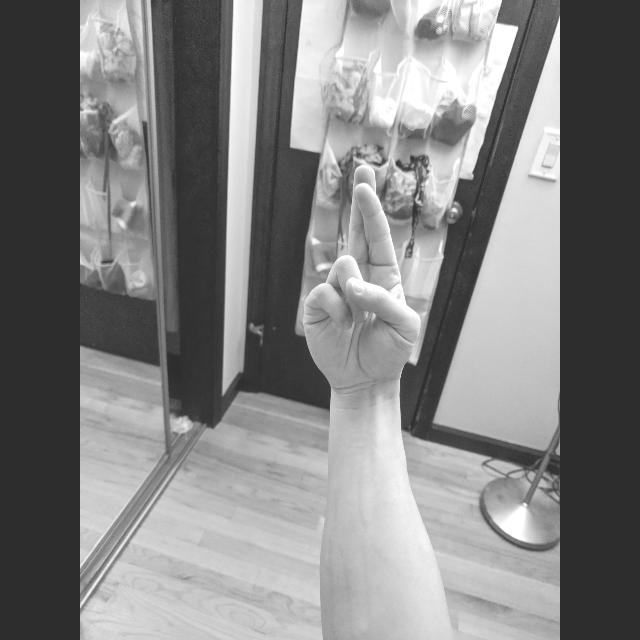R: (298, 160, 426, 396)
